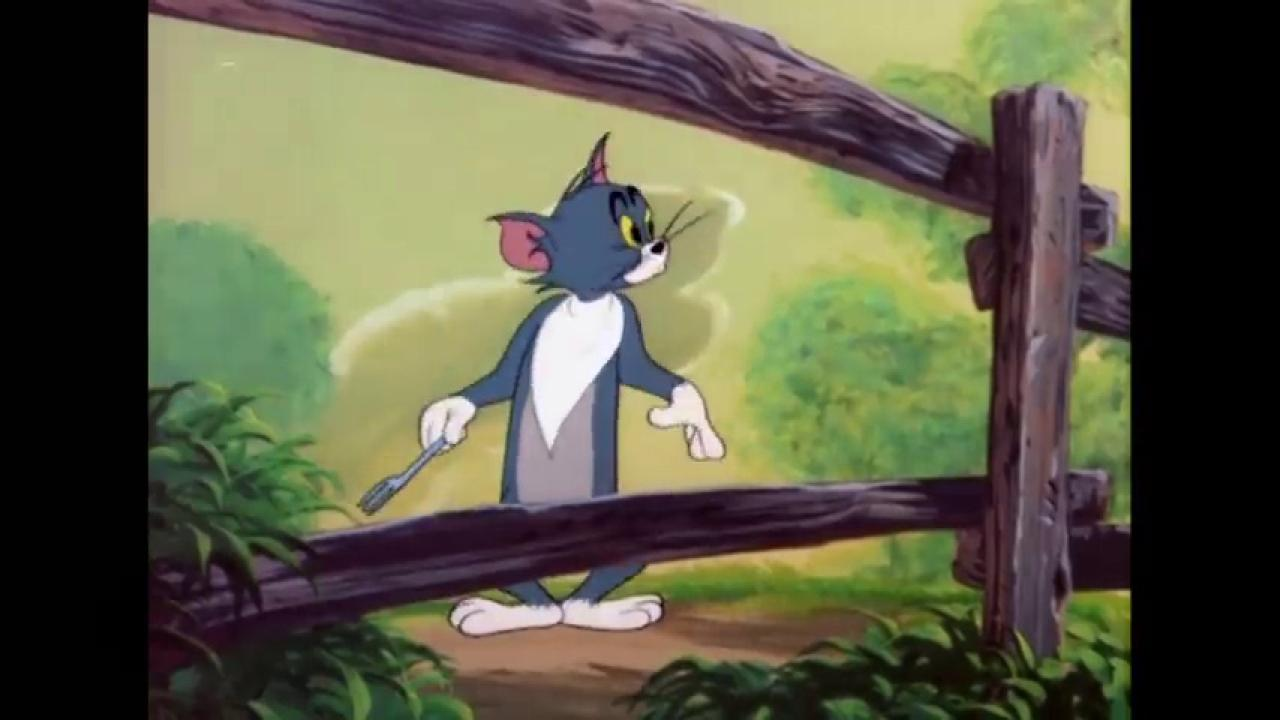Tom: (416, 129, 729, 638)
